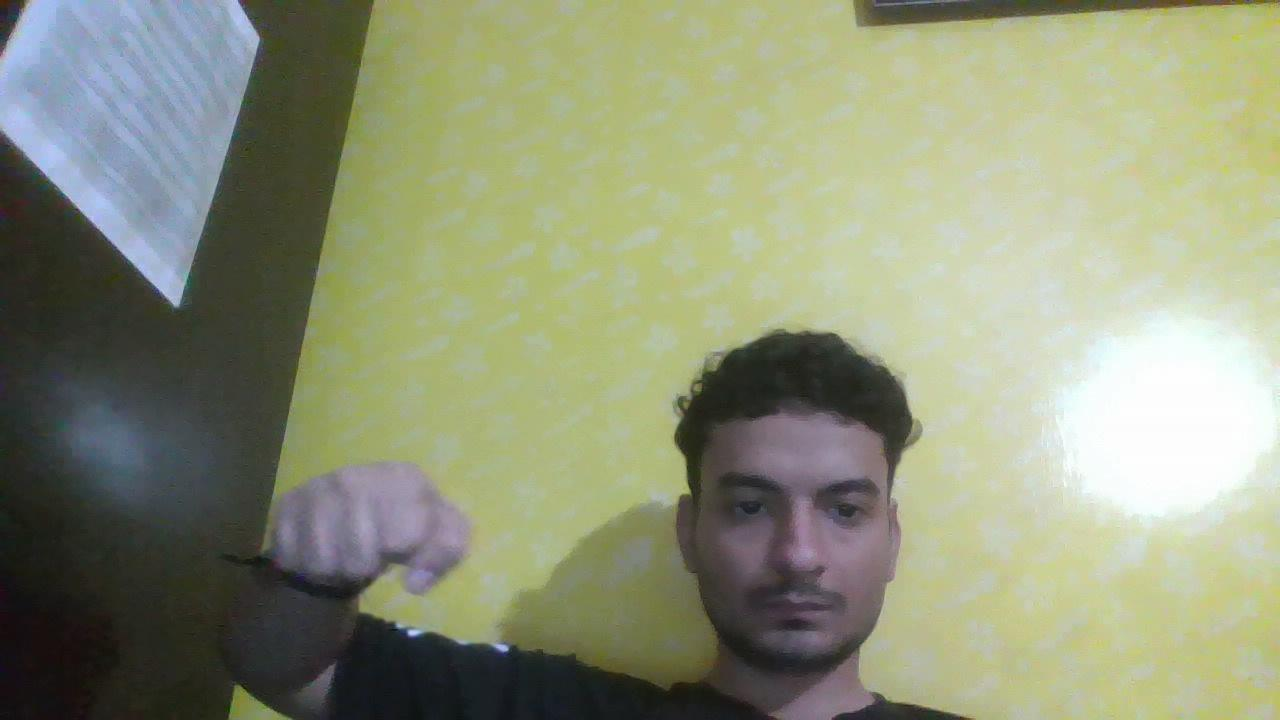Yes: (251, 430, 504, 613)
